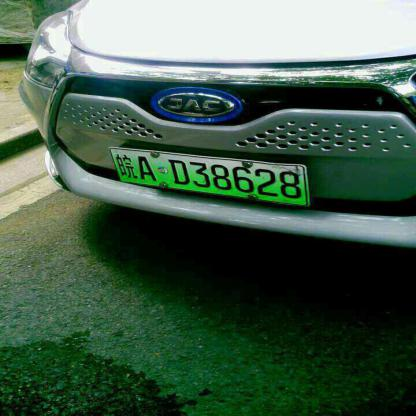lp: (108, 146, 306, 207)
